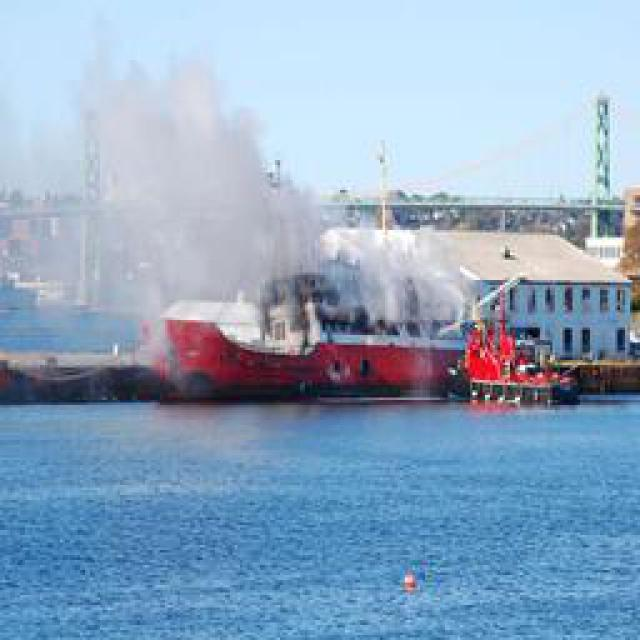Ship: (132, 304, 575, 407)
